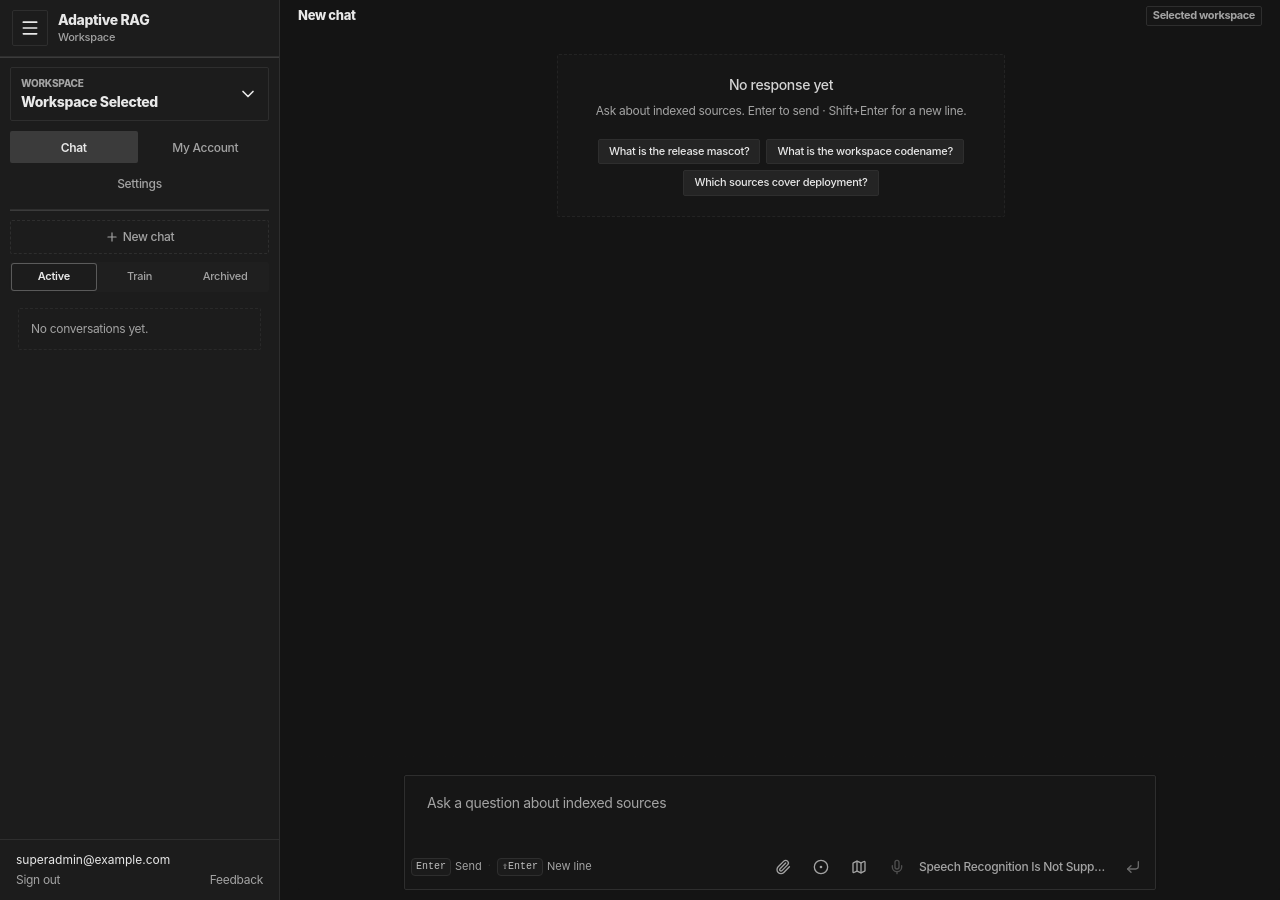
Test case: App chat workspace › lets viewers request approval, refine via chat reference, or cancel draft cards
Type "Remember this workspace rule." into the text box labelled "question" at (780, 814), box left=411, top=782, right=1149, bottom=847
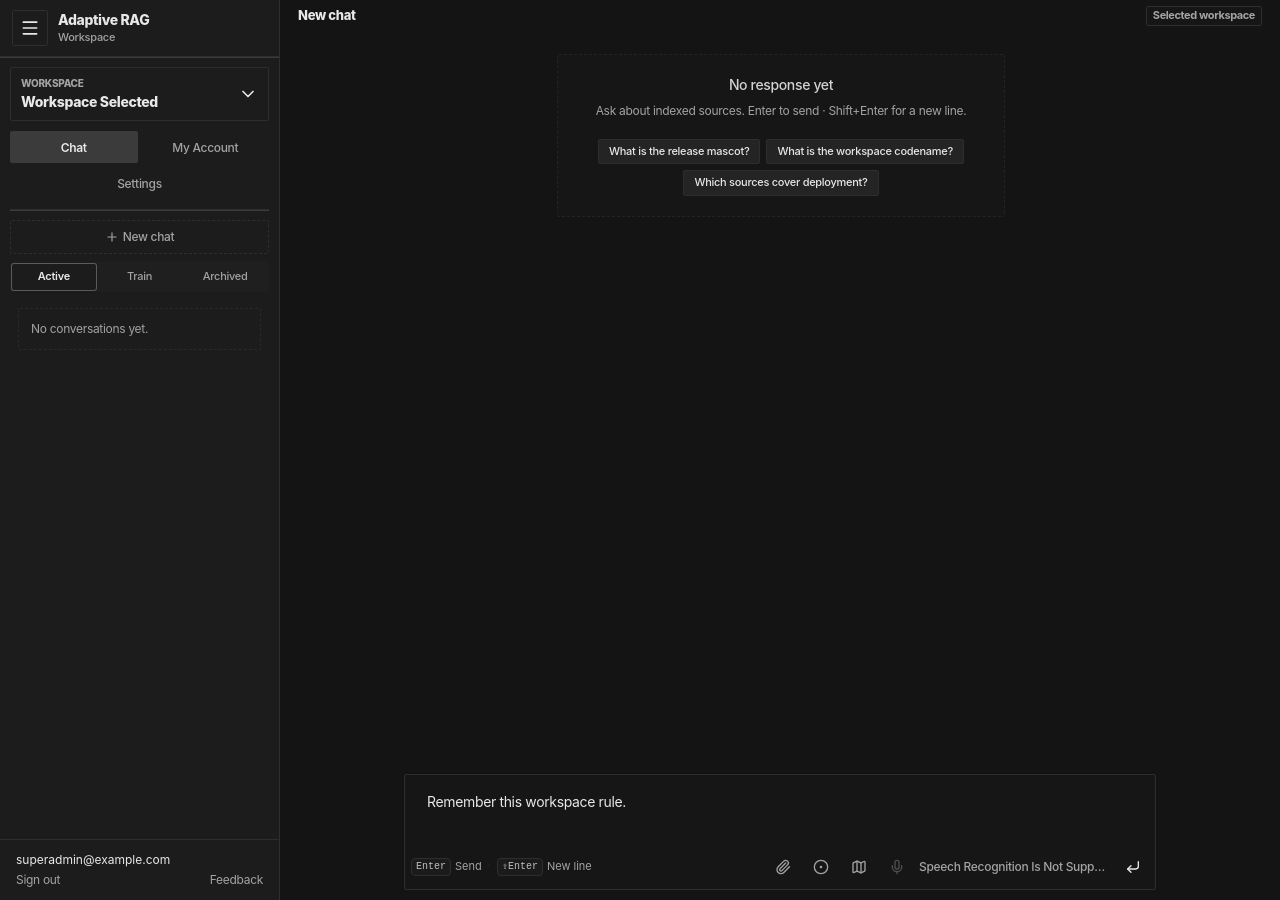
Click the button named "Ask" at (1133, 867), box left=1117, top=851, right=1149, bottom=883
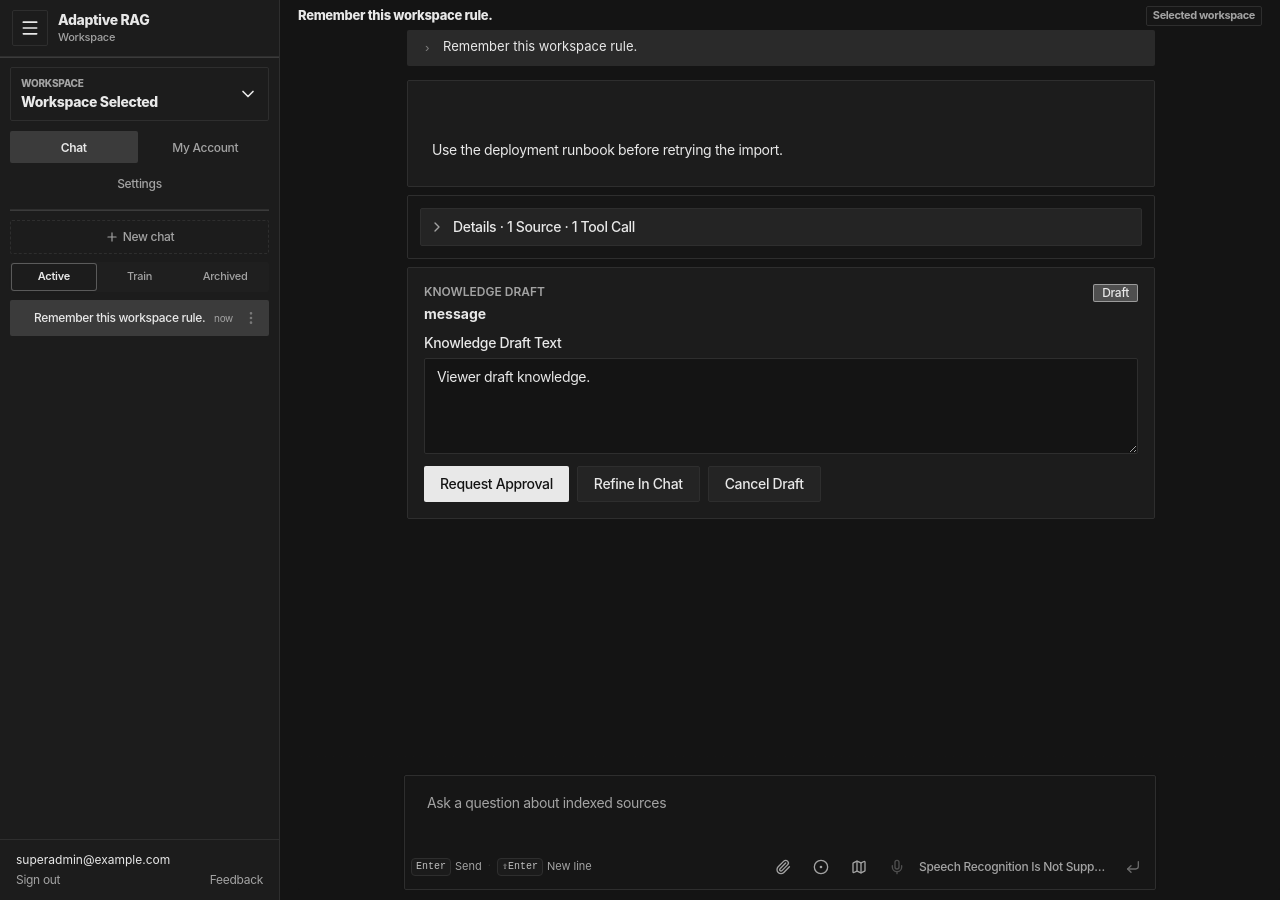
Check: the text box showing "Viewer draft knowledge." is shown, box left=424, top=358, right=1138, bottom=454
Click the button "Refine In Chat" at (638, 484), box left=577, top=466, right=700, bottom=502
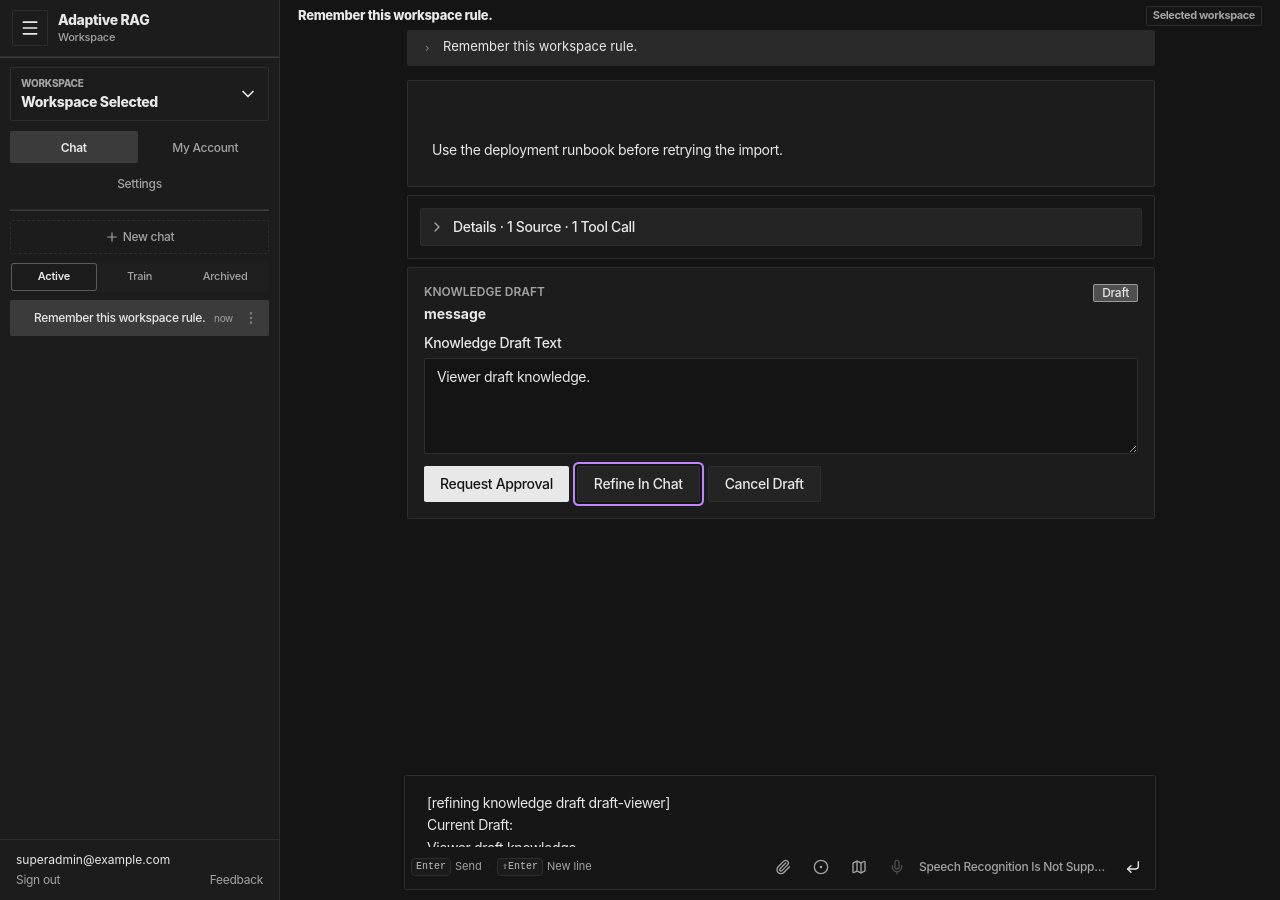
Click the button "Request Approval" at (496, 484), box left=424, top=466, right=569, bottom=502
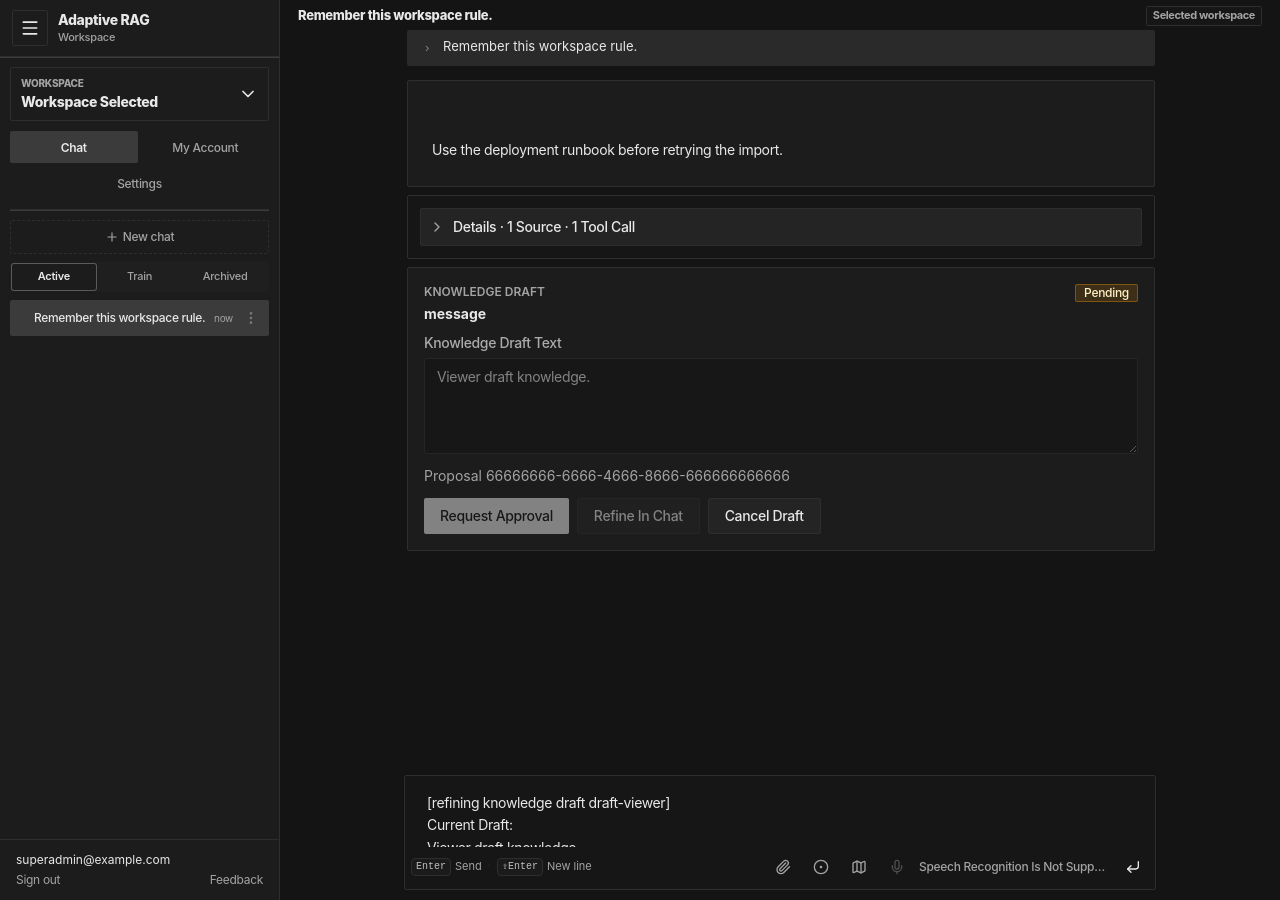
Check: the text "Pending" is shown, box left=1075, top=284, right=1138, bottom=302
Click the button "Cancel Draft" at (764, 516), box left=708, top=498, right=821, bottom=534
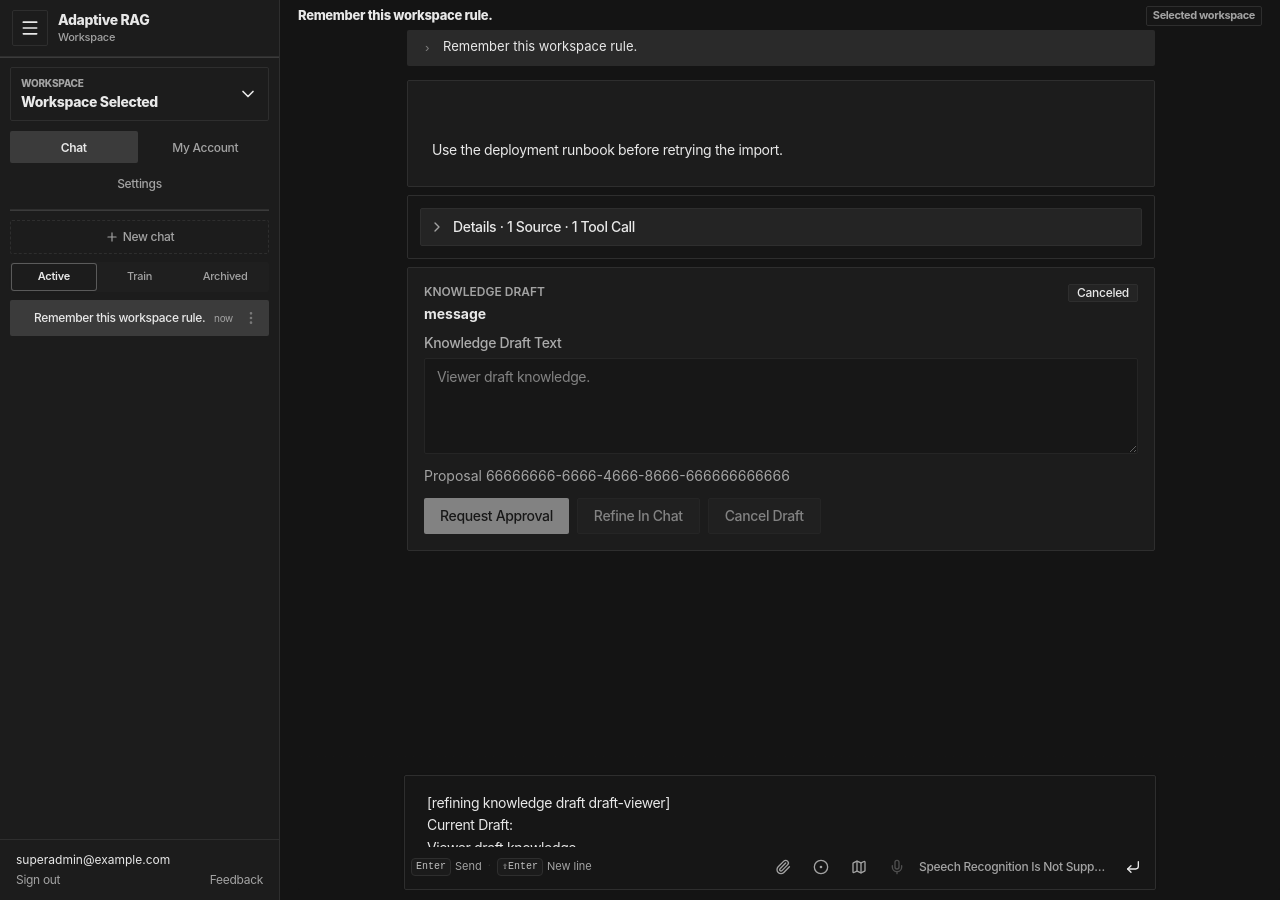
Check: the text "Canceled" is shown, box left=1068, top=284, right=1138, bottom=302
